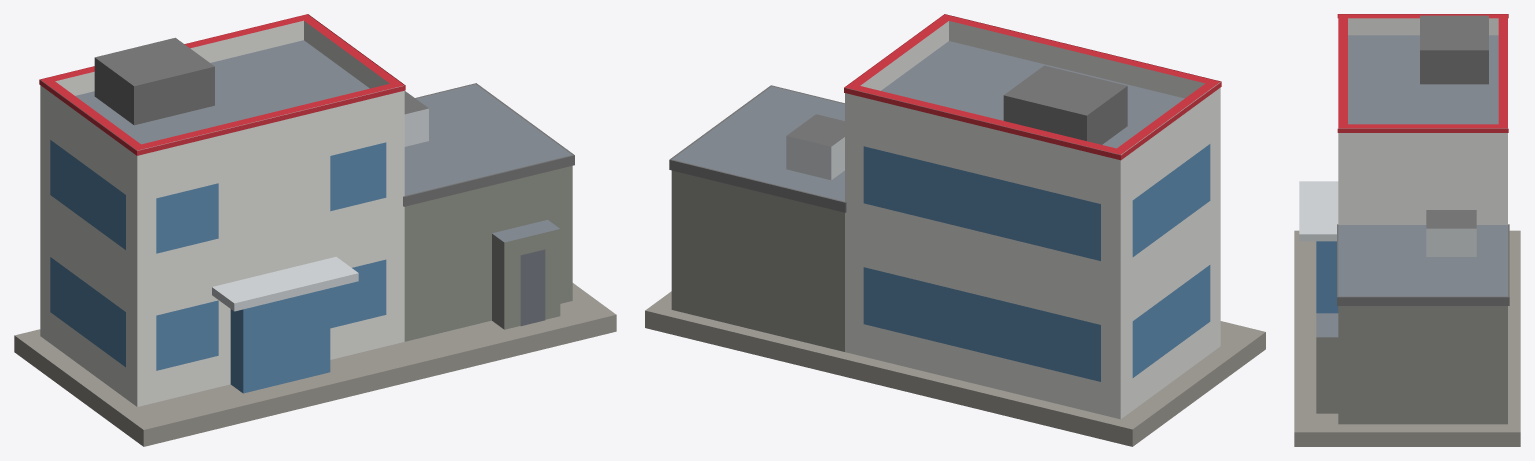
File: mashup-admin-top-prebuilt.fbx
3 views of the same model, side by side, from view 1: azimuth 30°, elevation 25°; view 2: azimuth 150°, elevation 25°; view 3: azimuth 270°, elevation 25° (orthographic). The views are drawn at different scales.
Parts seen in each view (by area): view 1: a1018/0/mashup-admin-top-prebuilt; view 2: a1018/0/mashup-admin-top-prebuilt; view 3: a1018/0/mashup-admin-top-prebuilt.
Boxes of the visible parts, <box> form: a1018/0/mashup-admin-top-prebuilt: <box>14,14,616,446</box>; a1018/0/mashup-admin-top-prebuilt: <box>645,14,1265,446</box>; a1018/0/mashup-admin-top-prebuilt: <box>1294,14,1520,446</box>.
Size of the model in its own units: 15.2 by 9 by 7.2.
